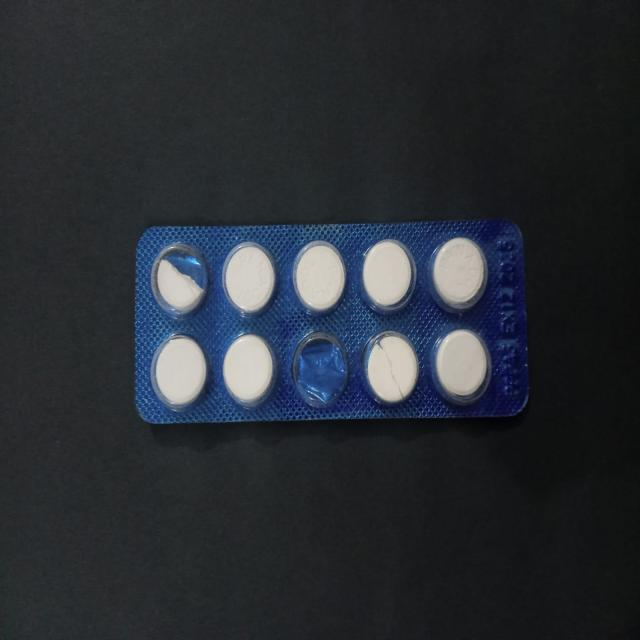defect: (146, 238, 214, 324), (358, 327, 423, 410), (290, 328, 353, 412)
